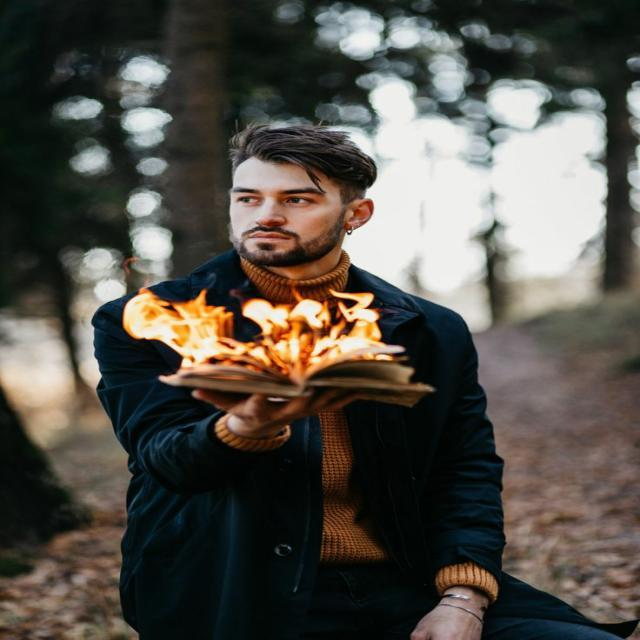Fire: (83, 268, 450, 419)
